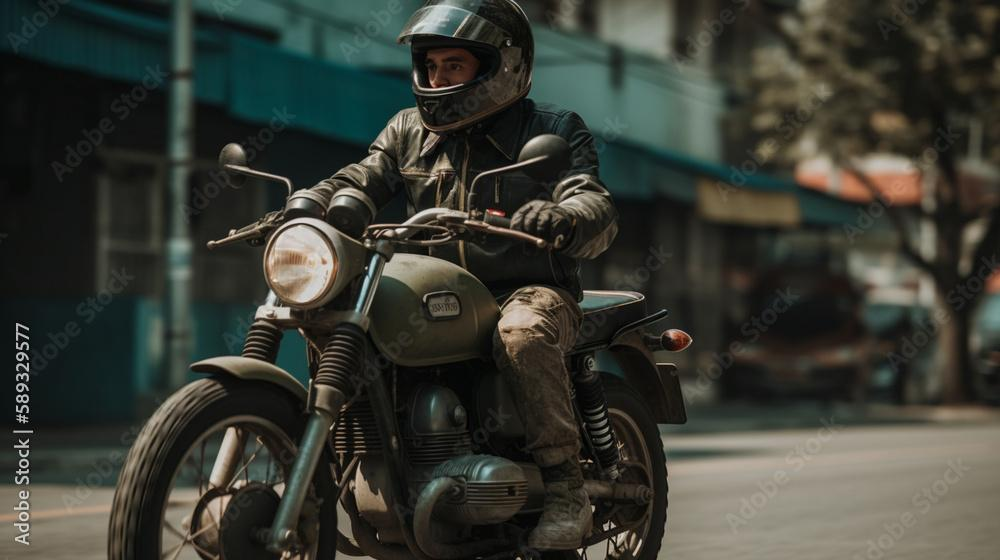helmet: (395, 0, 536, 136)
